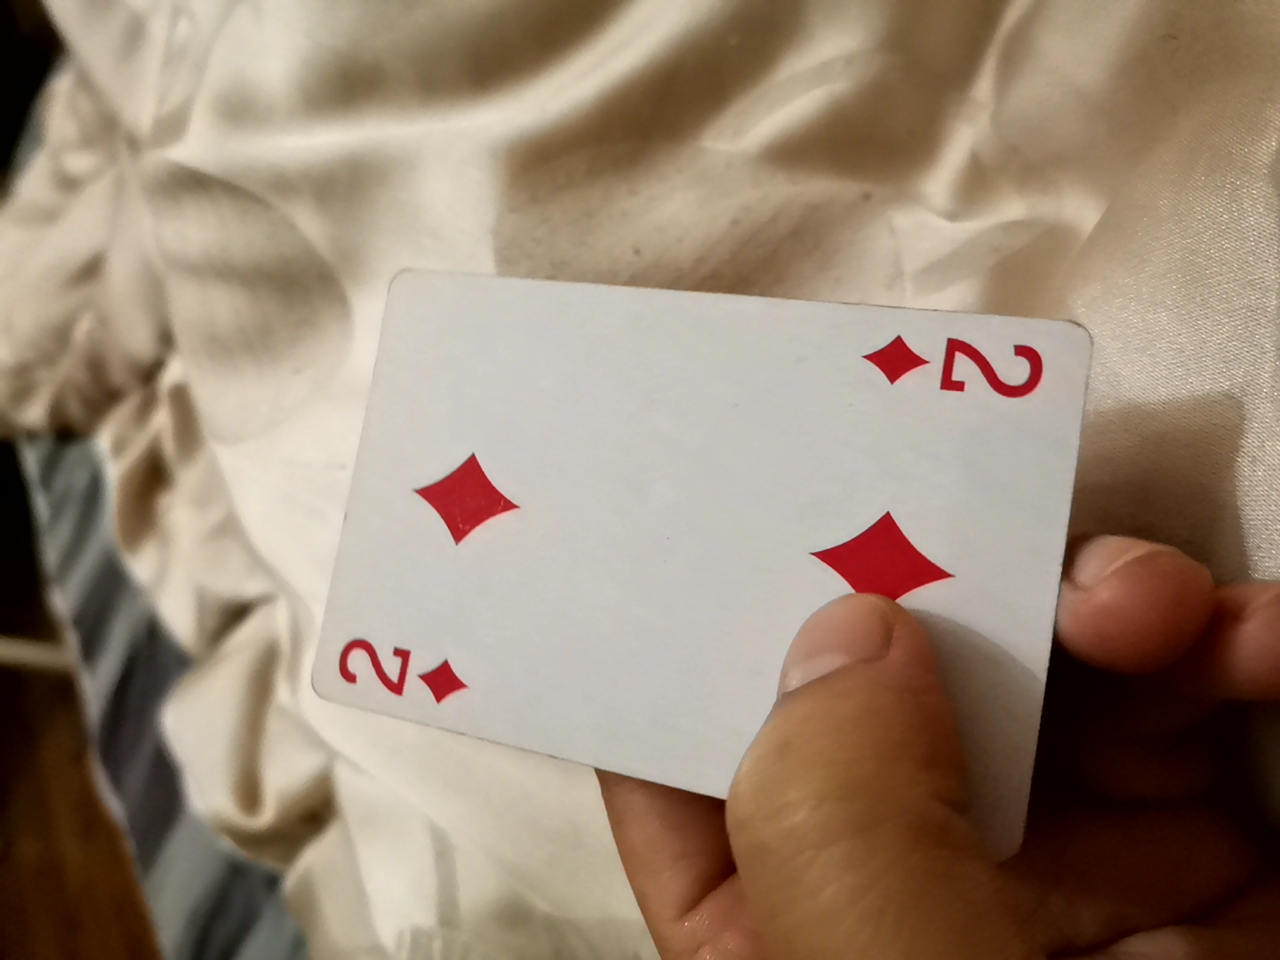fk 2: (267, 78, 1177, 839)
